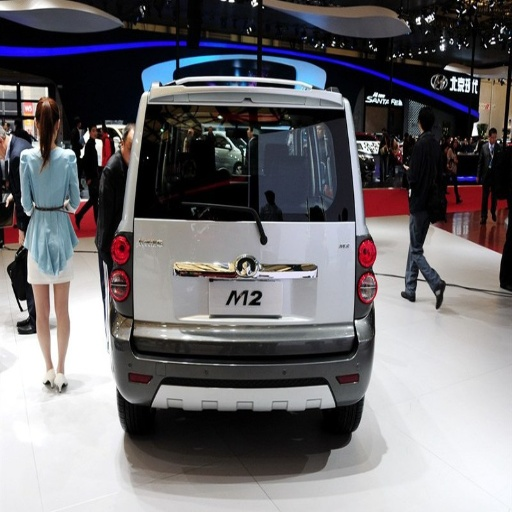back_bumper: (108, 309, 373, 409)
tailgate: (219, 296, 334, 331)
trunk: (134, 220, 354, 349)
